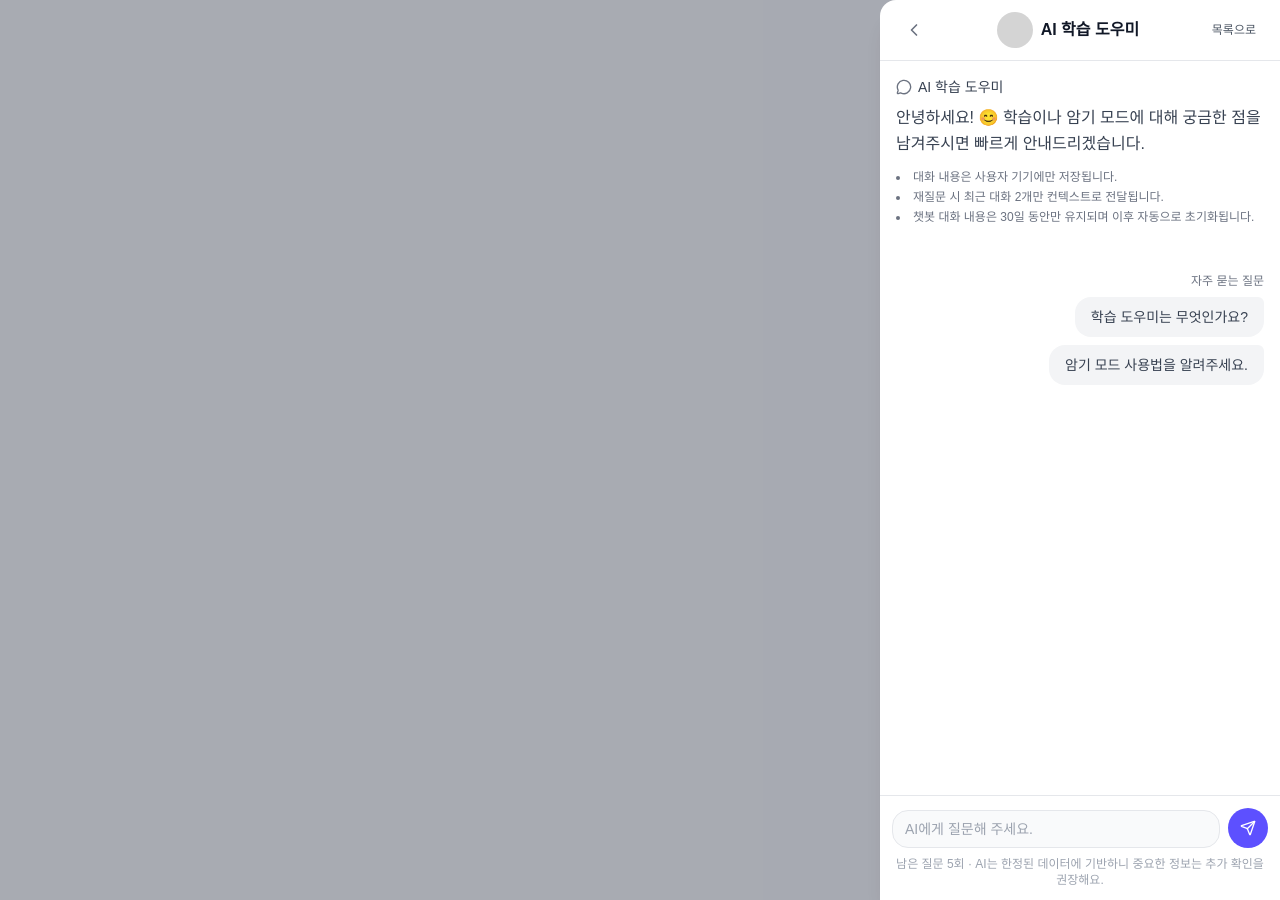
Test: ChatbotPanel › sends a suggested question and renders the bot reply for logged-in users
Step 1. Click the button "학습 도우미는 무엇인가요?" → (1169, 317), box [1075,297,1264,337]
Wait 15000 ms
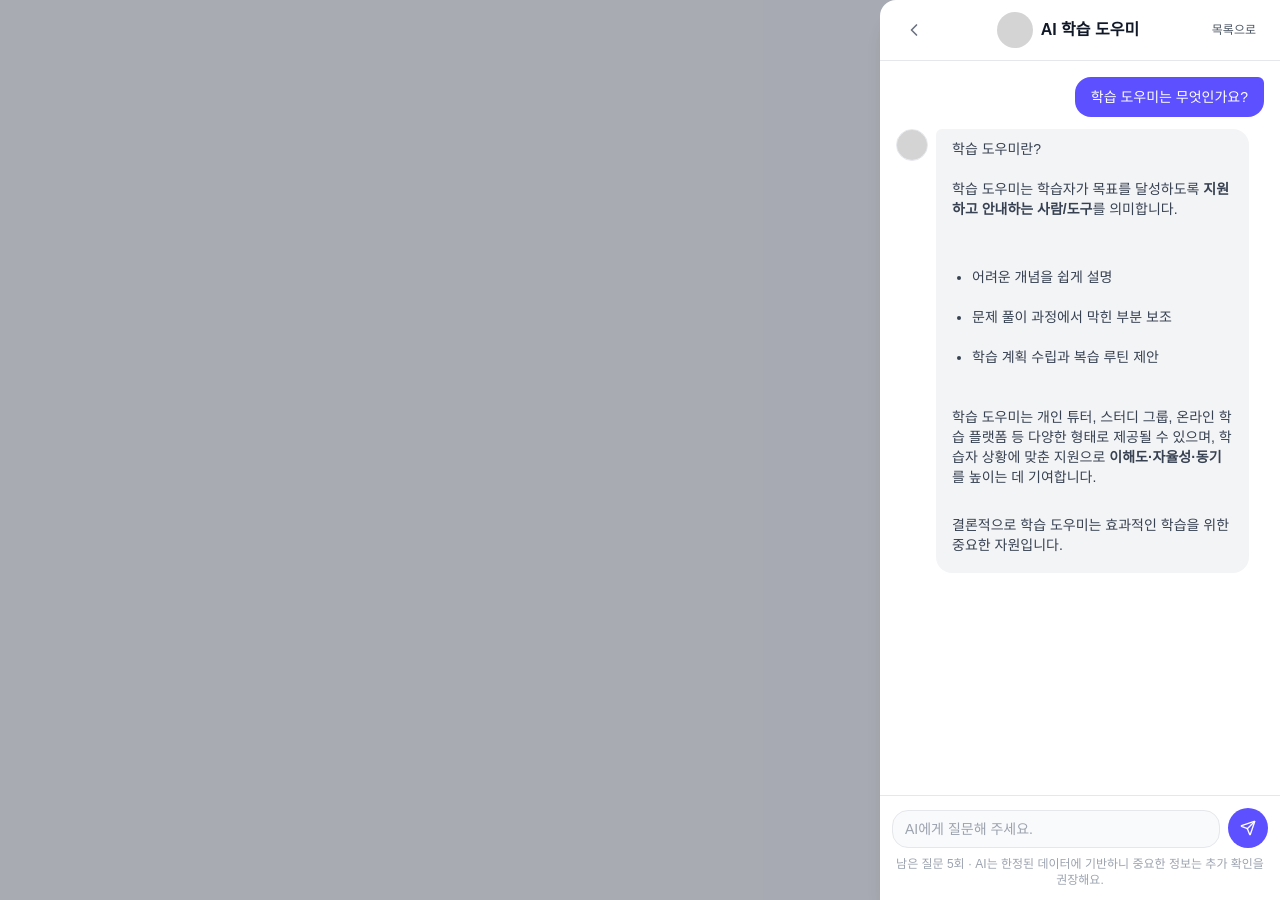
Expected: the text "학습 도우미는 무엇인가요?" is shown, [1075,77,1264,117]
Result: the heading "학습 도우미란?" is shown at [952,141,1041,157]
